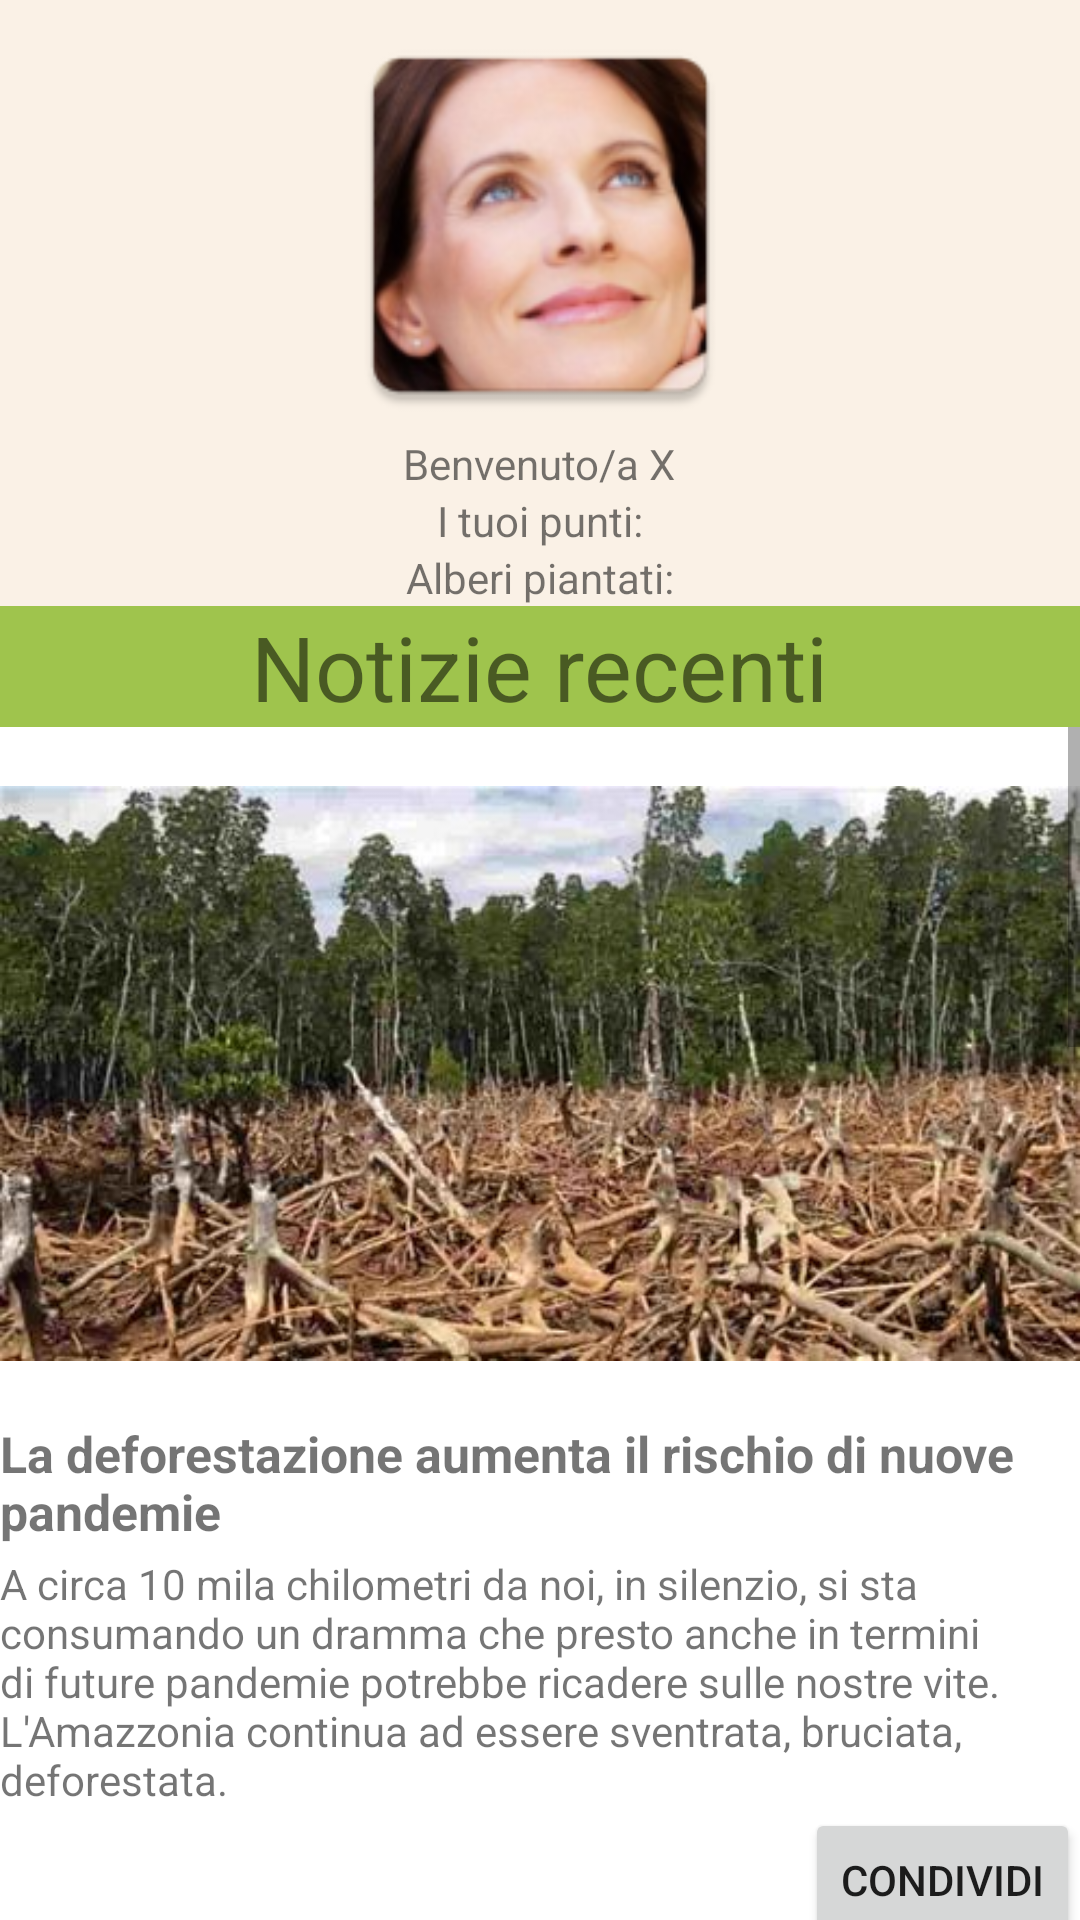

Screen size 1080×1920. Icon name, then its center in pixels as (x,y):
immagine profilo: (540,229)
